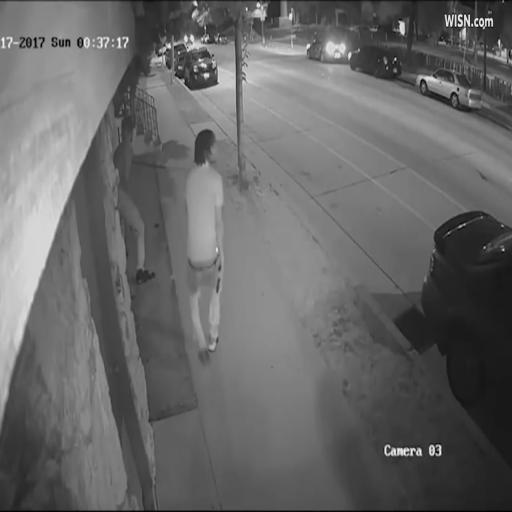Guns: (214, 263, 222, 295)
